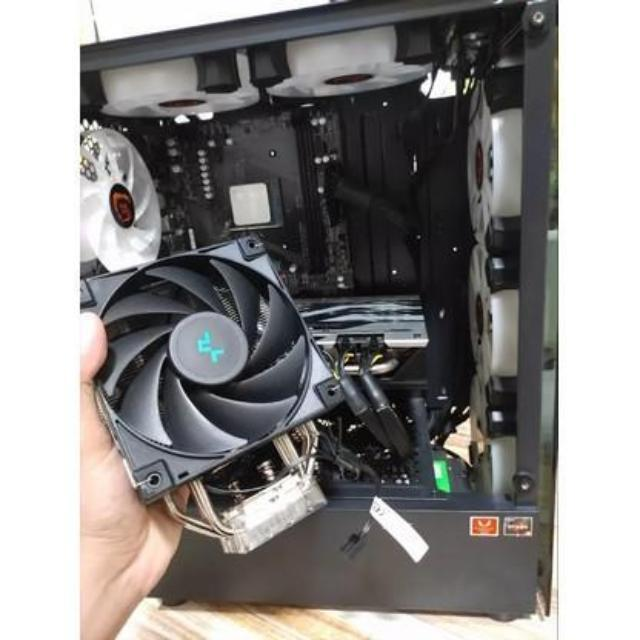CPU_Fan: (73, 236, 341, 559)
